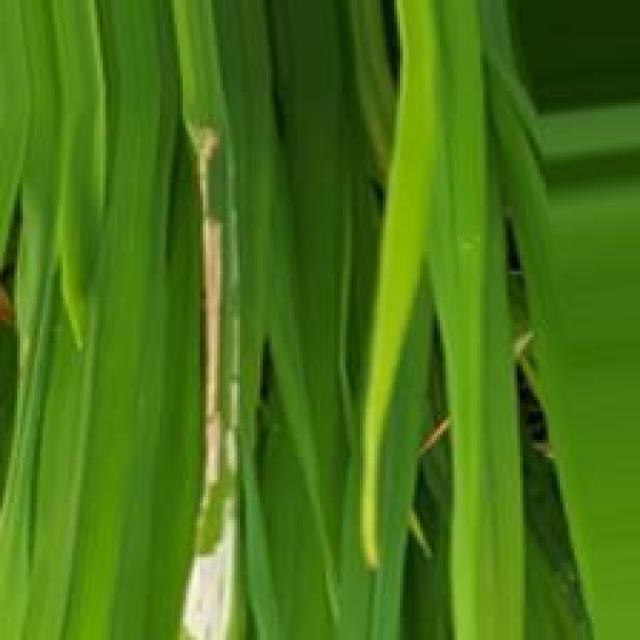Rice_Hispa: (184, 114, 235, 639)
